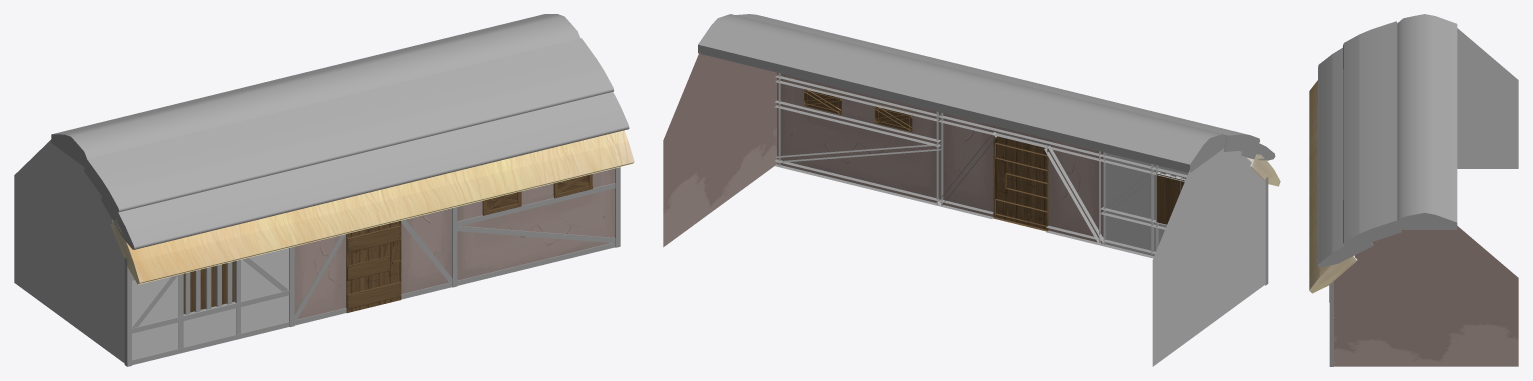
File: Serf_house.fbx
3 renders of one model, left to right at view 1: azimuth 30°, elevation 25°; view 2: azimuth 150°, elevation 25°; view 3: azimuth 270°, elevation 25°, orthographic. The views are drawn at different scales.
Visible parts, largest first — view 1: pCube42, polySurface1, pCube41, pCube40, polySurface16, polySurface12, polySurface9, polySurface10, pCube8, pCube38, pCube36, pCube11 (+8 smaller); view 2: polySurface12, polySurface16, polySurface1, polySurface9, polySurface10, pCube42, pCube34, pCube24, pCube37, pCube36, polySurface6, pCube25 (+5 smaller); view 3: polySurface12, polySurface16, pCube42, polySurface1, pCube41, pCube40, pCube35.
Boxes of the visible parts, bbox=[...] form: pCube42: bbox=[84, 38, 613, 212]; polySurface1: bbox=[14, 139, 289, 363]; pCube41: bbox=[101, 92, 629, 249]; pCube40: bbox=[110, 130, 634, 284]; polySurface16: bbox=[51, 14, 580, 167]; polySurface12: bbox=[457, 168, 615, 280]; polySurface9: bbox=[294, 208, 451, 319]; polySurface10: bbox=[346, 220, 401, 312]; pCube8: bbox=[132, 290, 289, 333]; pCube38: bbox=[457, 226, 615, 243]; pCube36: bbox=[457, 243, 615, 285]; pCube11: bbox=[132, 321, 289, 365]; polySurface12: bbox=[663, 51, 939, 247]; polySurface16: bbox=[698, 14, 1225, 172]; polySurface1: bbox=[1105, 148, 1265, 366]; polySurface9: bbox=[940, 112, 1102, 243]; polySurface10: bbox=[993, 135, 1048, 231]; pCube42: bbox=[735, 14, 1259, 151]; pCube34: bbox=[775, 75, 939, 121]; pCube24: bbox=[938, 115, 1102, 161]; pCube37: bbox=[774, 100, 940, 147]; pCube36: bbox=[774, 159, 940, 205]; polySurface6: bbox=[1156, 174, 1183, 224]; pCube25: bbox=[1044, 145, 1103, 244]; polySurface12: bbox=[1334, 226, 1518, 366]; polySurface16: bbox=[1397, 14, 1457, 229]; pCube42: bbox=[1343, 21, 1401, 246]; polySurface1: bbox=[1457, 28, 1518, 168]; pCube41: bbox=[1318, 47, 1373, 267]; pCube40: bbox=[1309, 80, 1357, 293]; pCube35: bbox=[1329, 281, 1333, 366].
Size of the model in its own units: 106 by 38.53 by 47.24.
